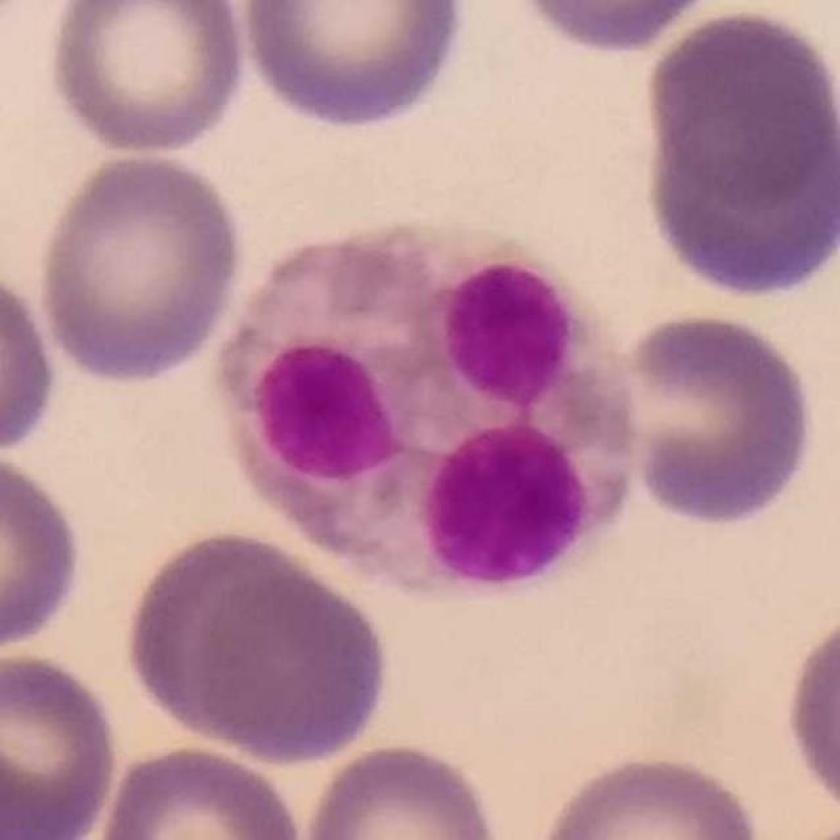eosinophil: (215, 217, 641, 600)
